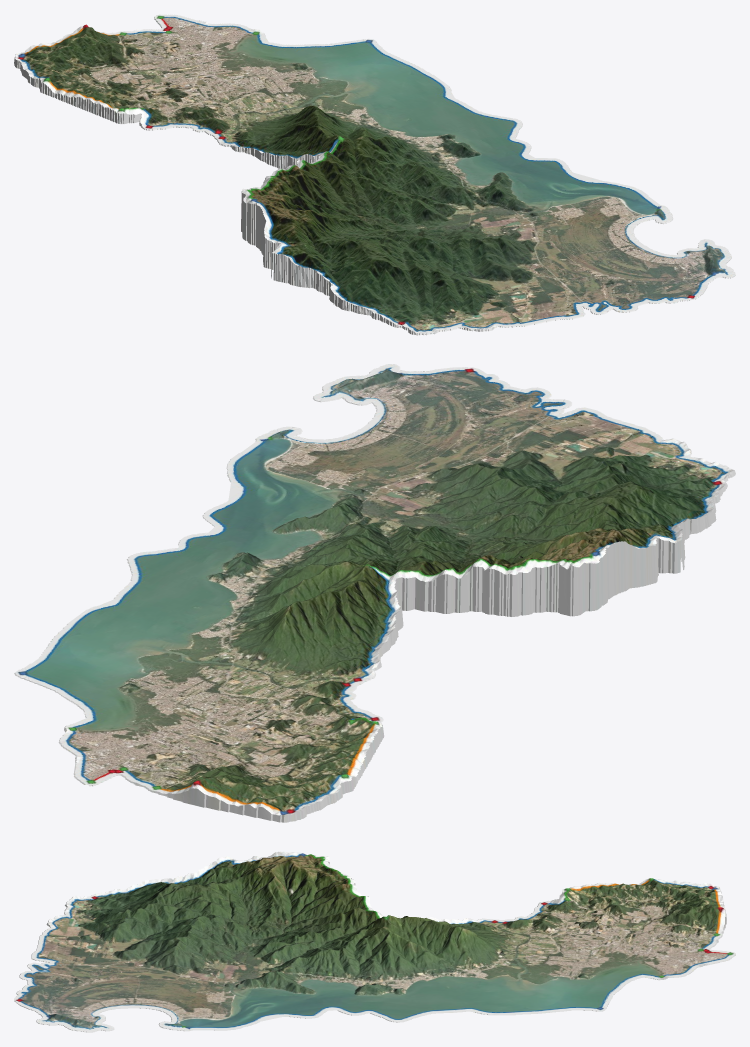
3 views of the same model, one above another, from view 1: azimuth 30°, elevation 25°; view 2: azimuth 150°, elevation 25°; view 3: azimuth 270°, elevation 25° (orthographic). The views are drawn at different scales.
Size of the model in its own units: 0.9987 by 0.1089 by 1.98.
1 material, 1 textured.
